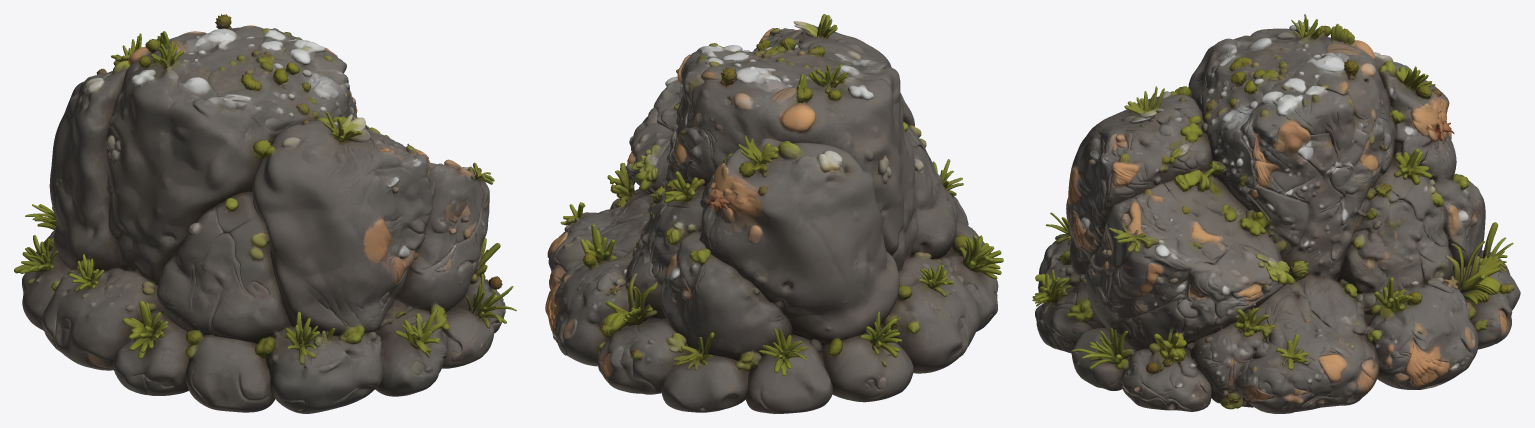
File: model_meshopt.glb
3 views of the same model, side by side, from view 1: azimuth 30°, elevation 25°; view 2: azimuth 150°, elevation 25°; view 3: azimuth 270°, elevation 25° (orthographic). The views are drawn at different scales.
Visible parts, largest first — view 1: tripo_node_9f0efbea-c18a-4e4d-8eb2-7c70626195dc; view 2: tripo_node_9f0efbea-c18a-4e4d-8eb2-7c70626195dc; view 3: tripo_node_9f0efbea-c18a-4e4d-8eb2-7c70626195dc.
Part boxes in pixels (x1=…): tripo_node_9f0efbea-c18a-4e4d-8eb2-7c70626195dc: x1=14, y1=14, x2=516, y2=413; tripo_node_9f0efbea-c18a-4e4d-8eb2-7c70626195dc: x1=545, y1=14, x2=1003, y2=413; tripo_node_9f0efbea-c18a-4e4d-8eb2-7c70626195dc: x1=1032, y1=14, x2=1520, y2=413.
Size of the model in its own units: 0.909 by 0.6144 by 0.9803.
Materials: 1 (1 with a texture image).
